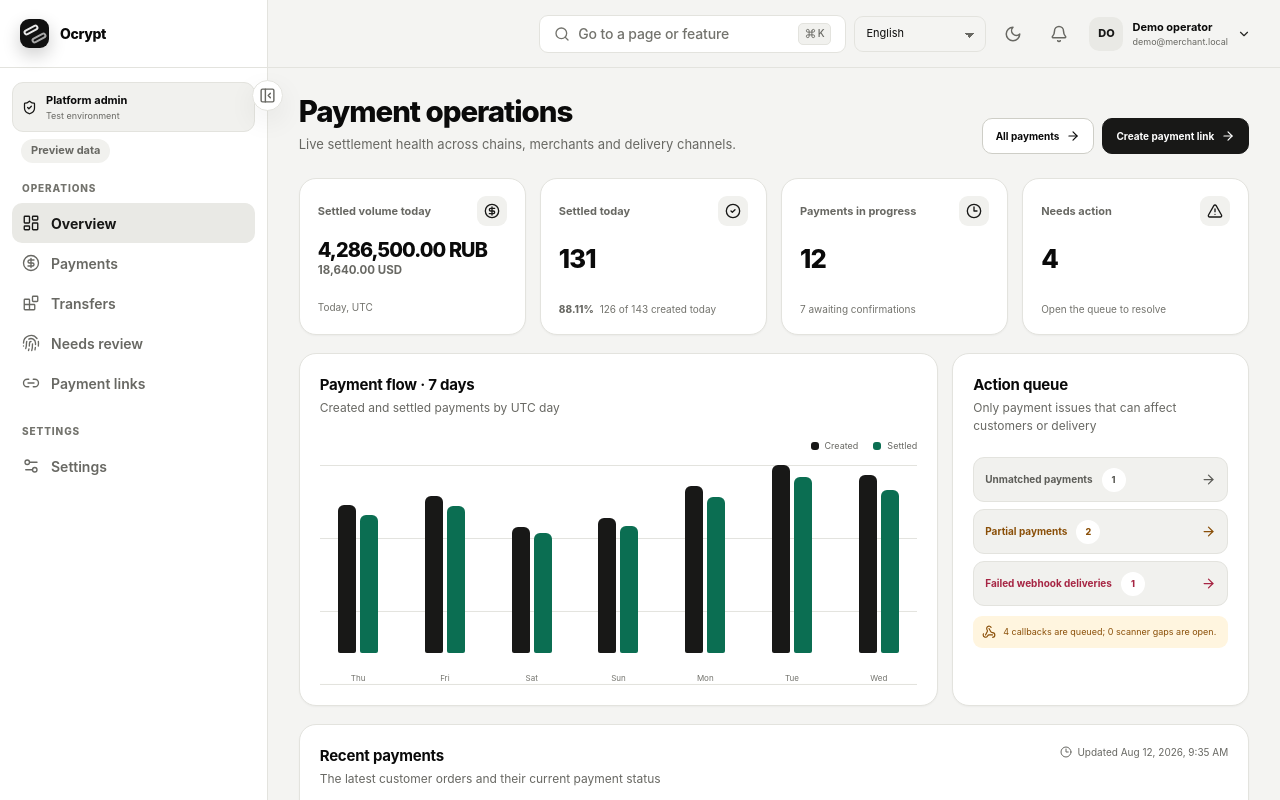
admin application › renders fixture data only in explicit preview mode and localizes it
Expected: the heading "Payment operations" is shown, 299,93 -> 572,129
Expected: the text "Preview data" is shown, 21,139 -> 110,163
Select "Русский" in the dropdown named "Language": coordinates (920, 34) 854,16 -> 986,52
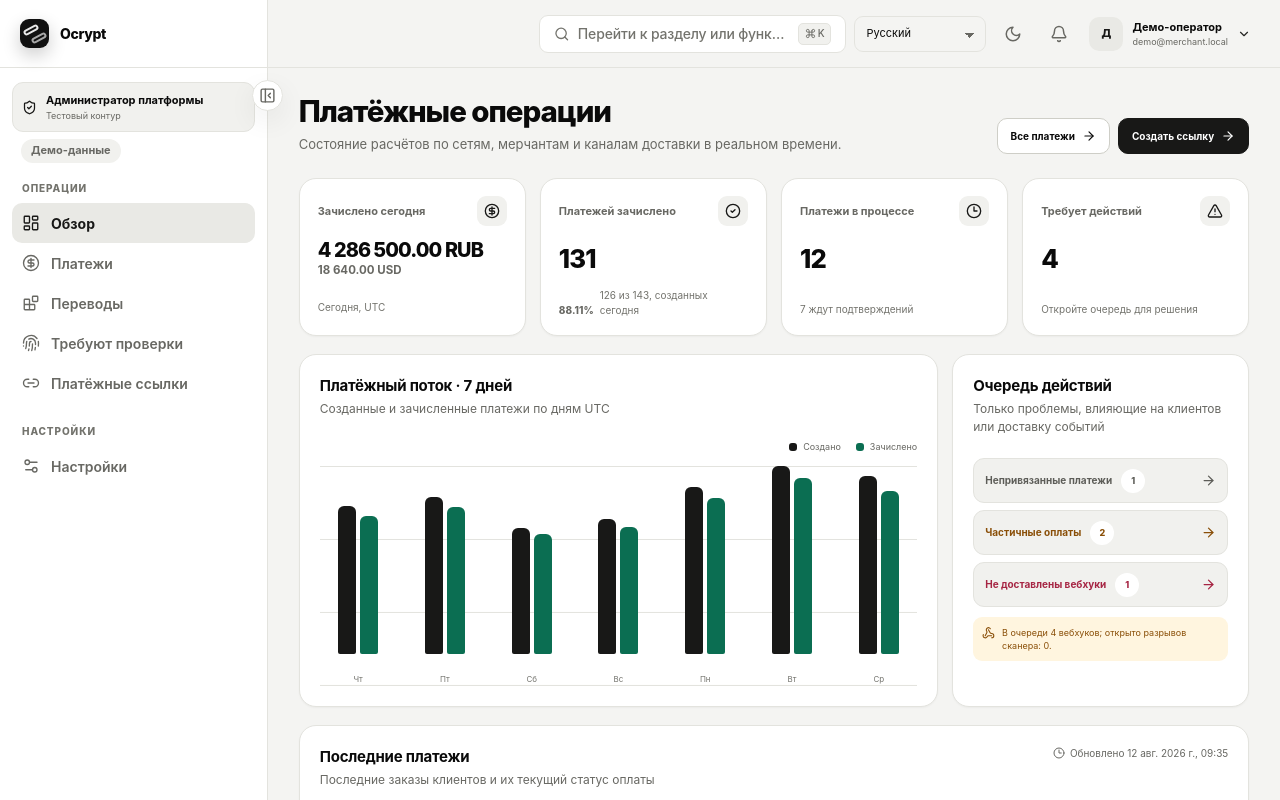
Now the heading "Платёжные операции" is shown, box 299,93 -> 611,129
Now the text "Тестовый контур" is shown, box 46,110 -> 121,120
Now the text "Демо-оператор" is shown, box 1132,18 -> 1228,35
